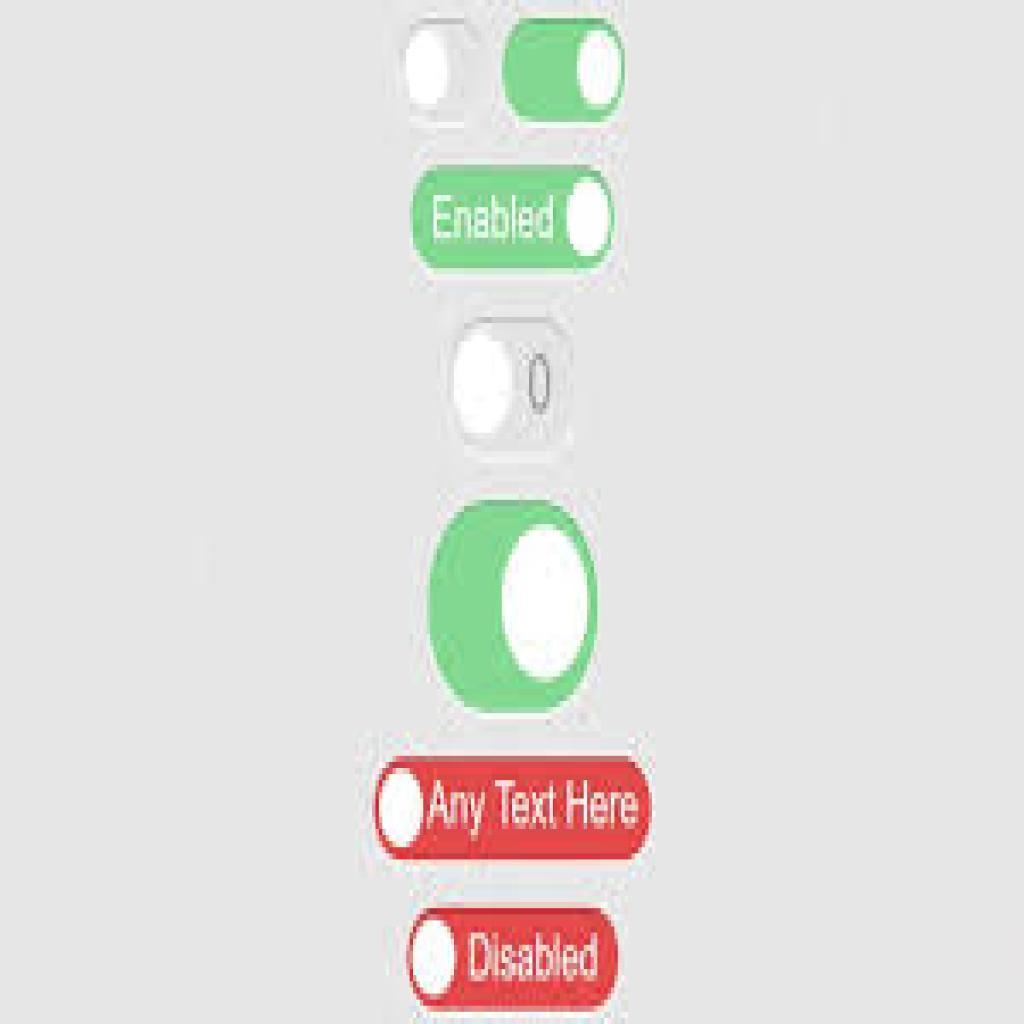switch: (423, 498, 602, 714), (446, 317, 578, 454), (499, 15, 630, 127), (401, 11, 489, 123)
